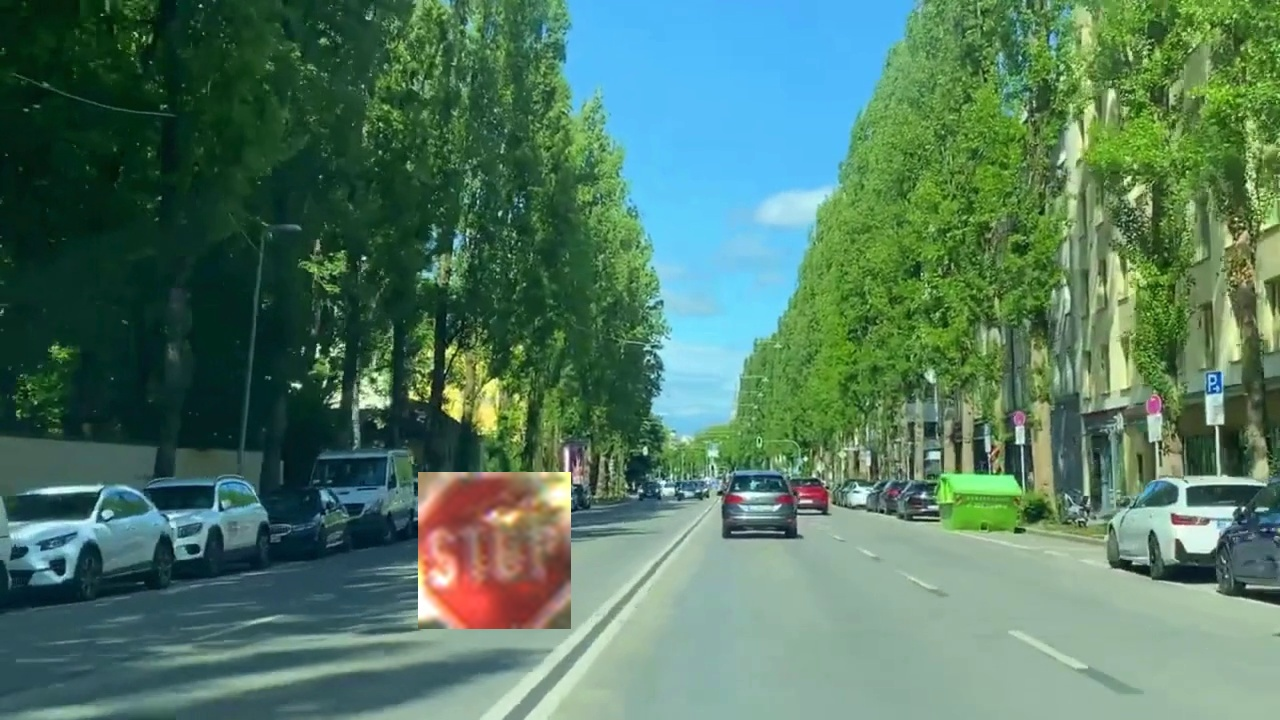Stop: (418, 472, 571, 629)
